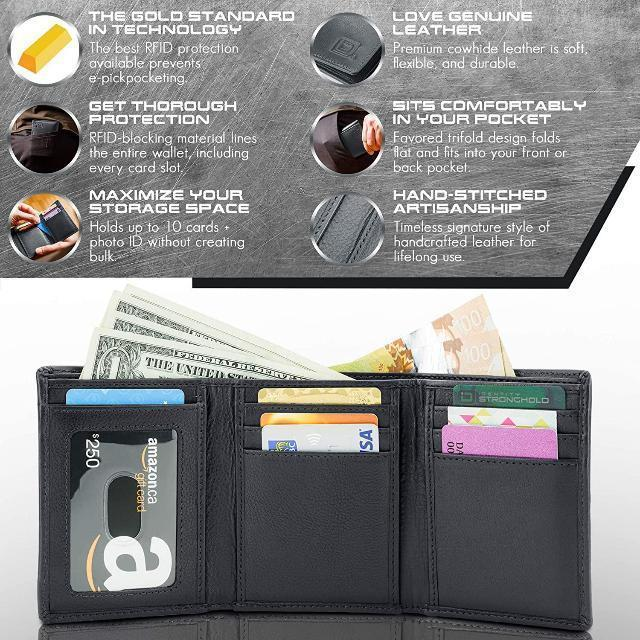wallet: (28, 350, 606, 636)
